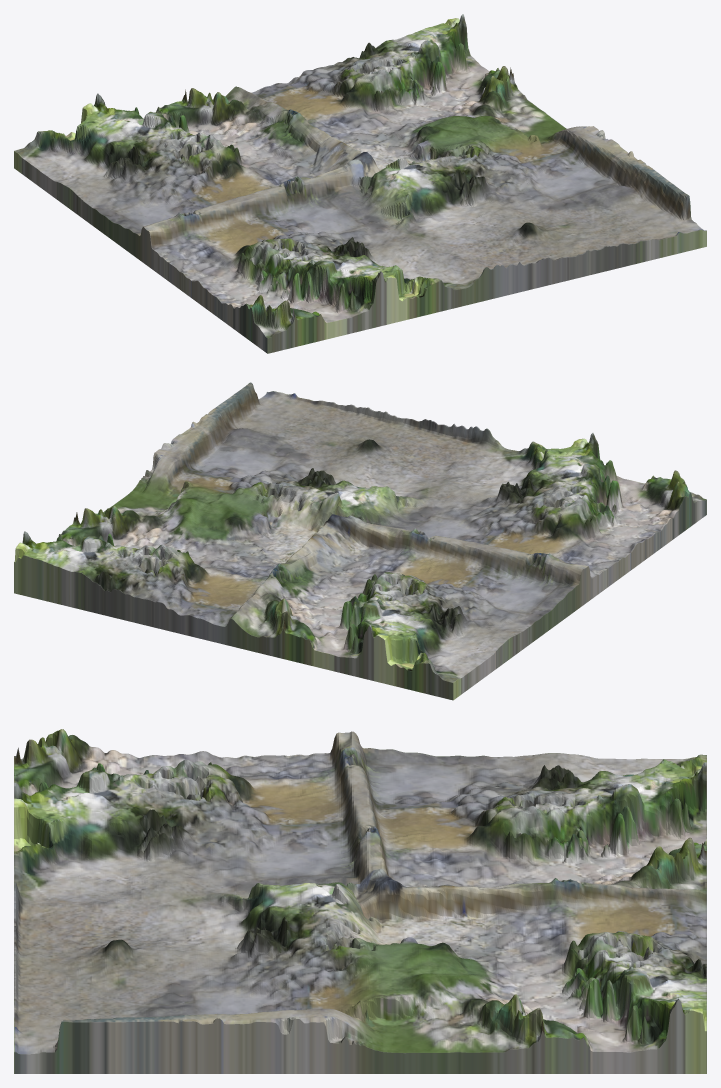
The model's file is verti_arena_full.dae.
3 renders of one model, top to bottom at view 1: azimuth 30°, elevation 25°; view 2: azimuth 150°, elevation 25°; view 3: azimuth 270°, elevation 25°, orthographic. The views are drawn at different scales.
Parts seen in each view (by area): view 1: terrain; view 2: terrain; view 3: terrain.
Boxes of the visible parts, x1,y1,x2,y2 form: terrain: (14, 14, 706, 353); terrain: (14, 382, 706, 700); terrain: (14, 729, 706, 1073).
Size of the model in its own units: 8 by 8 by 0.95.
1 material, 1 textured.
